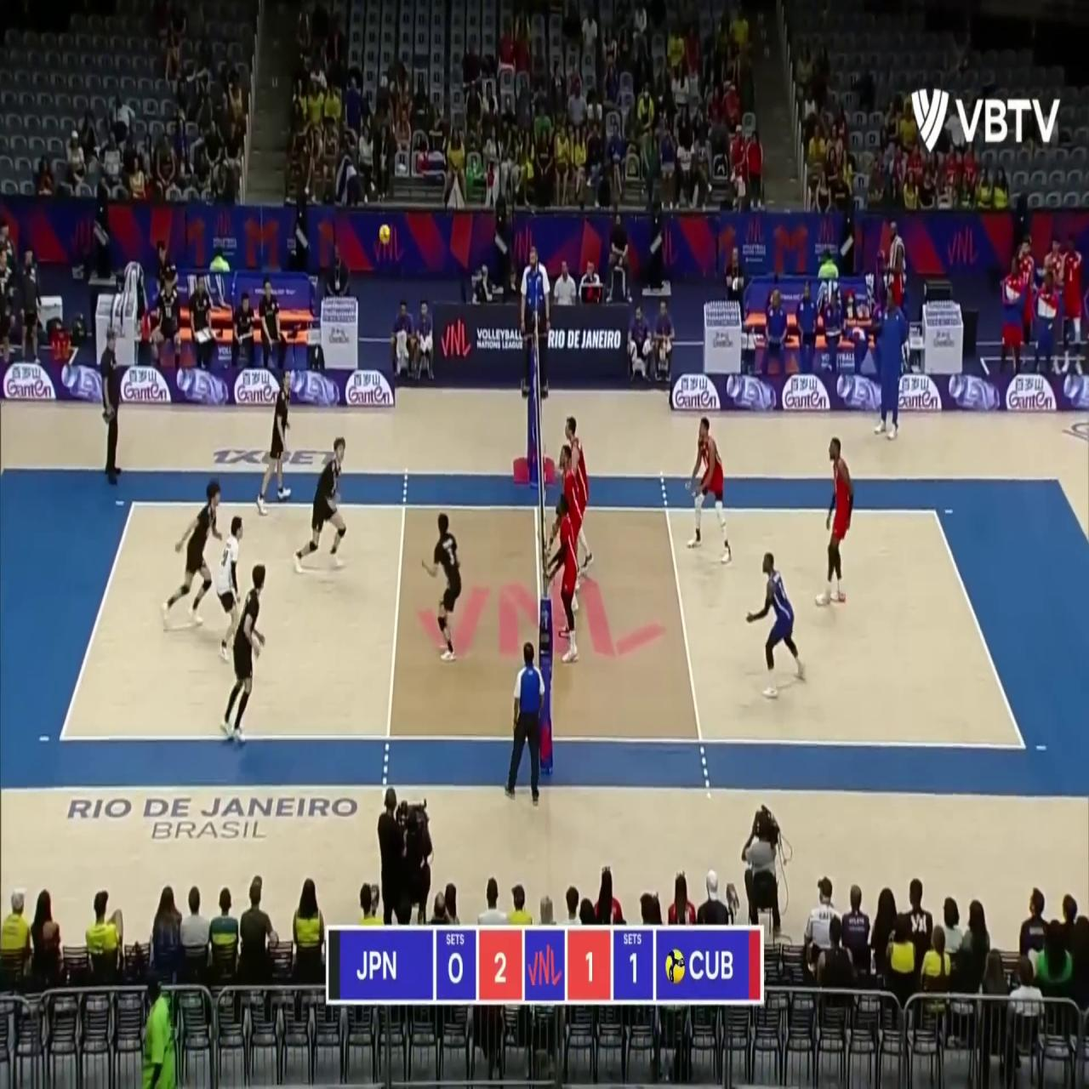ball: (379, 224, 390, 244)
